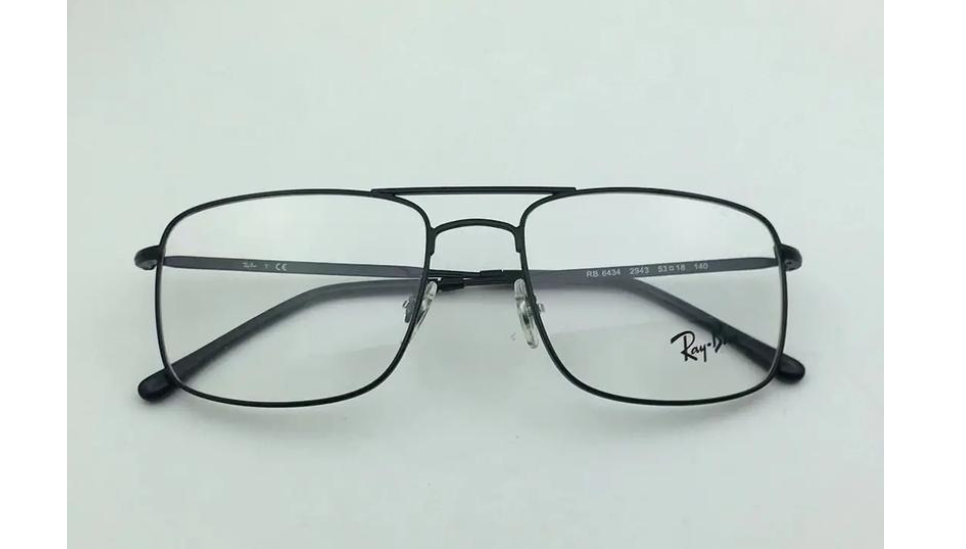glass: (136, 163, 822, 432)
